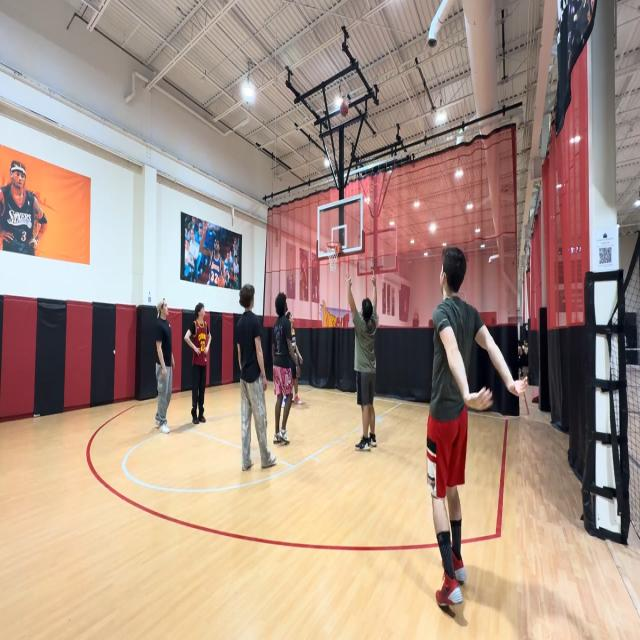Basketball: (339, 100, 349, 116)
Basketball Rim: (325, 240, 340, 270)
Player: (428, 242, 527, 604), (235, 284, 278, 470), (344, 269, 380, 459), (271, 291, 297, 450), (186, 301, 211, 426), (152, 297, 174, 435)
